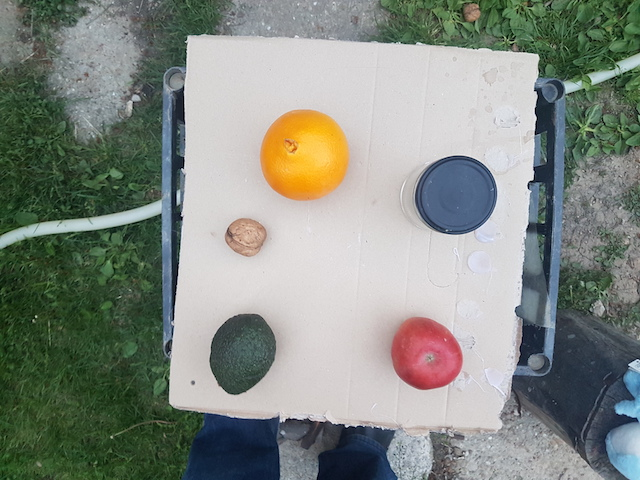apple: (392, 312, 462, 391)
avocado: (208, 311, 280, 397)
nut: (224, 217, 270, 257)
orange: (261, 106, 349, 200)
recipient: (416, 155, 496, 236)
